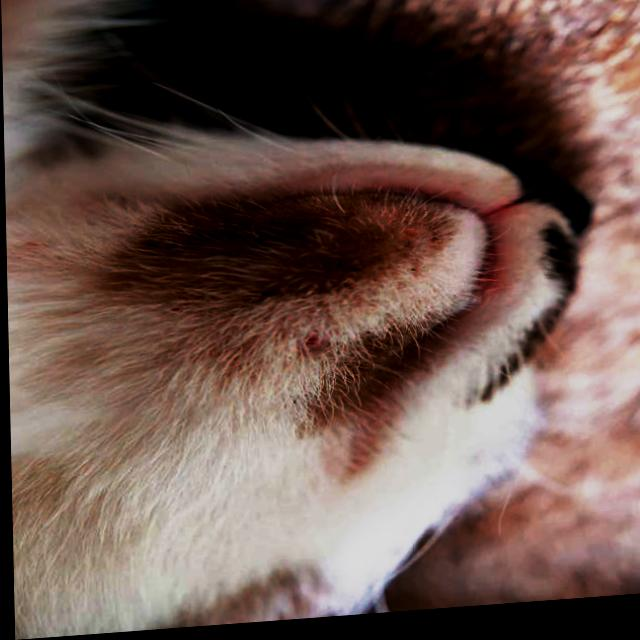acne: (102, 198, 403, 313)
